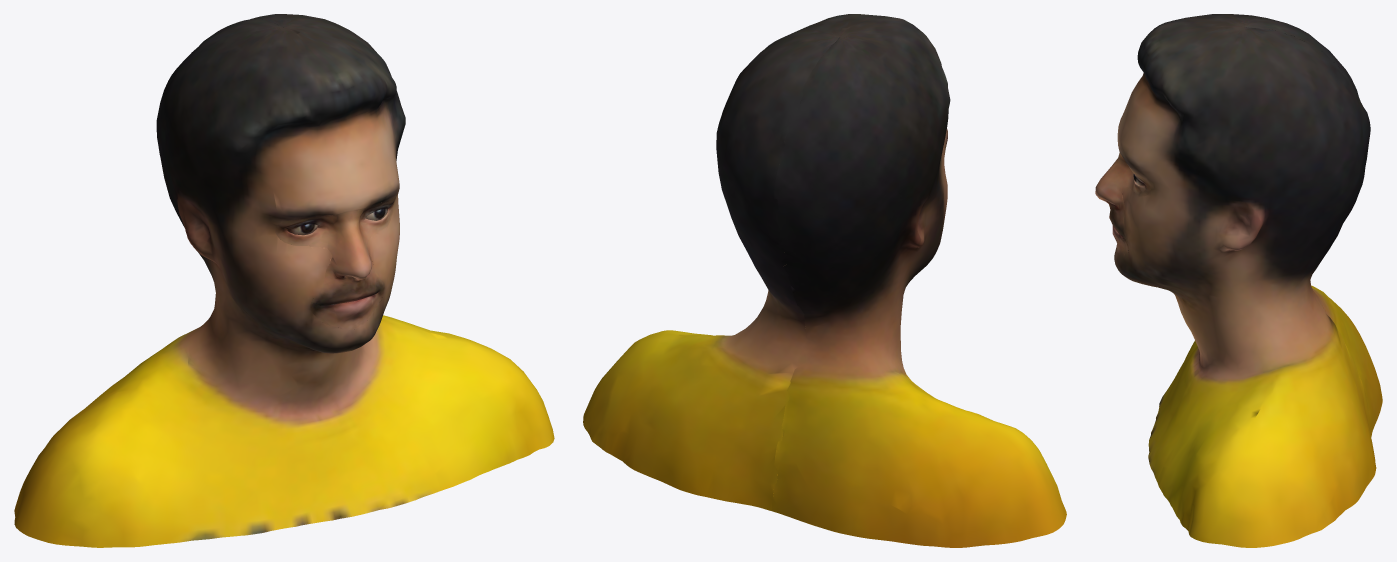
The model's file is myModel.glb.
3 renders of one model, left to right at view 1: azimuth 30°, elevation 25°; view 2: azimuth 150°, elevation 25°; view 3: azimuth 270°, elevation 25°, orthographic. The views are drawn at different scales.
Parts seen in each view (by area): view 1: model; view 2: model; view 3: model.
Boxes of the visible parts, <box> form: model: <box>14,14,554,547</box>; model: <box>583,14,1066,547</box>; model: <box>1095,14,1382,547</box>.
Bounding box in the file's own units: 0.4561 × 0.3894 × 0.2482.
1 material, 1 textured.
